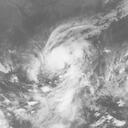cyclone: (38, 38, 93, 94)
